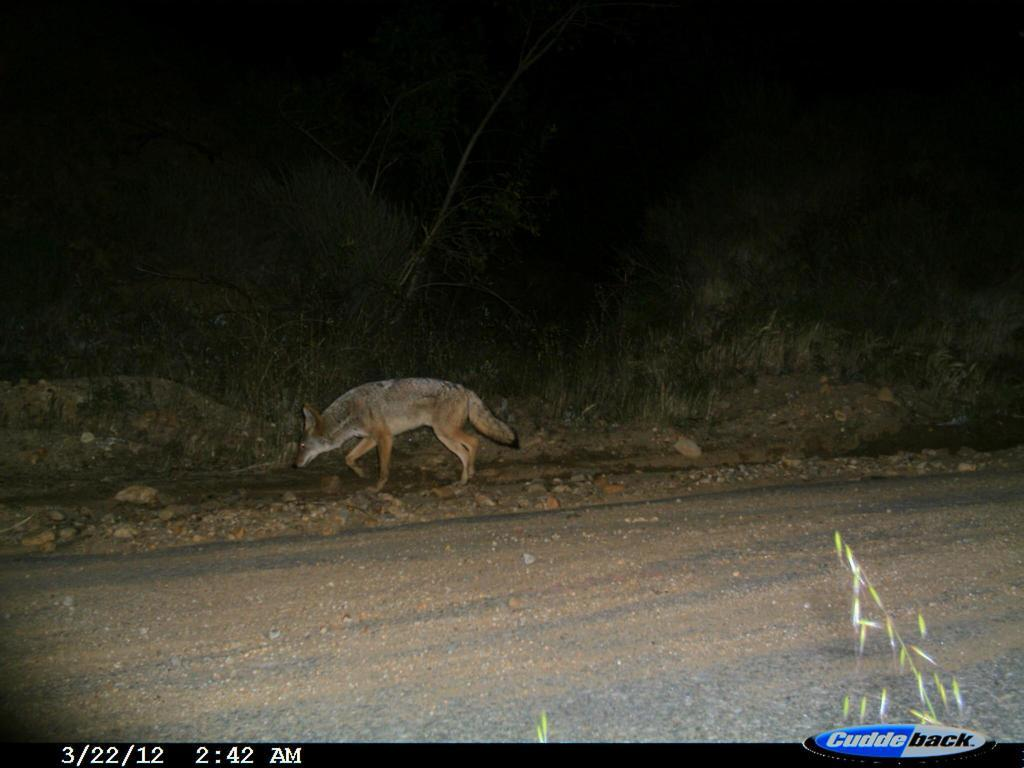coyote: (287, 368, 523, 497)
